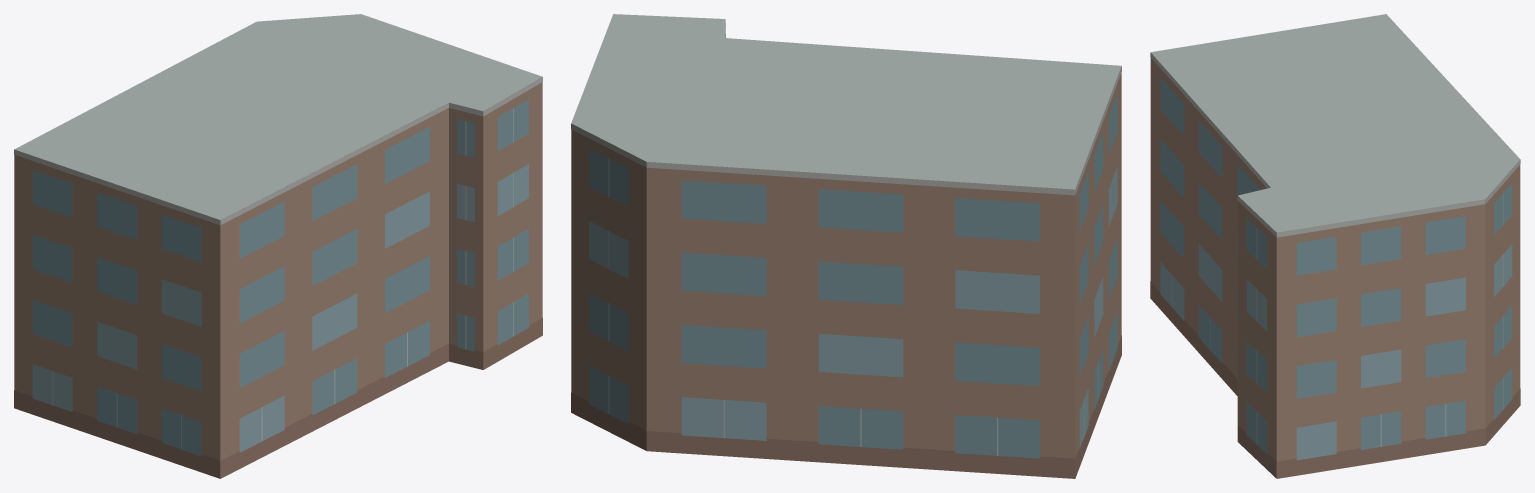
Rendered from survey-upis-32745985.glb.
3 renders of one model, left to right at view 1: azimuth 30°, elevation 25°; view 2: azimuth 150°, elevation 25°; view 3: azimuth 270°, elevation 25°, orthographic. The views are drawn at different scales.
Visible parts, largest first — view 1: survey-upis-32745985.tmp; view 2: survey-upis-32745985.tmp; view 3: survey-upis-32745985.tmp.
Part boxes in pixels (bbox=[...]): survey-upis-32745985.tmp: bbox=[14, 14, 542, 478]; survey-upis-32745985.tmp: bbox=[571, 14, 1121, 478]; survey-upis-32745985.tmp: bbox=[1150, 14, 1520, 478].
Size of the model in its own units: 23.05 by 12.1 by 16.48.
